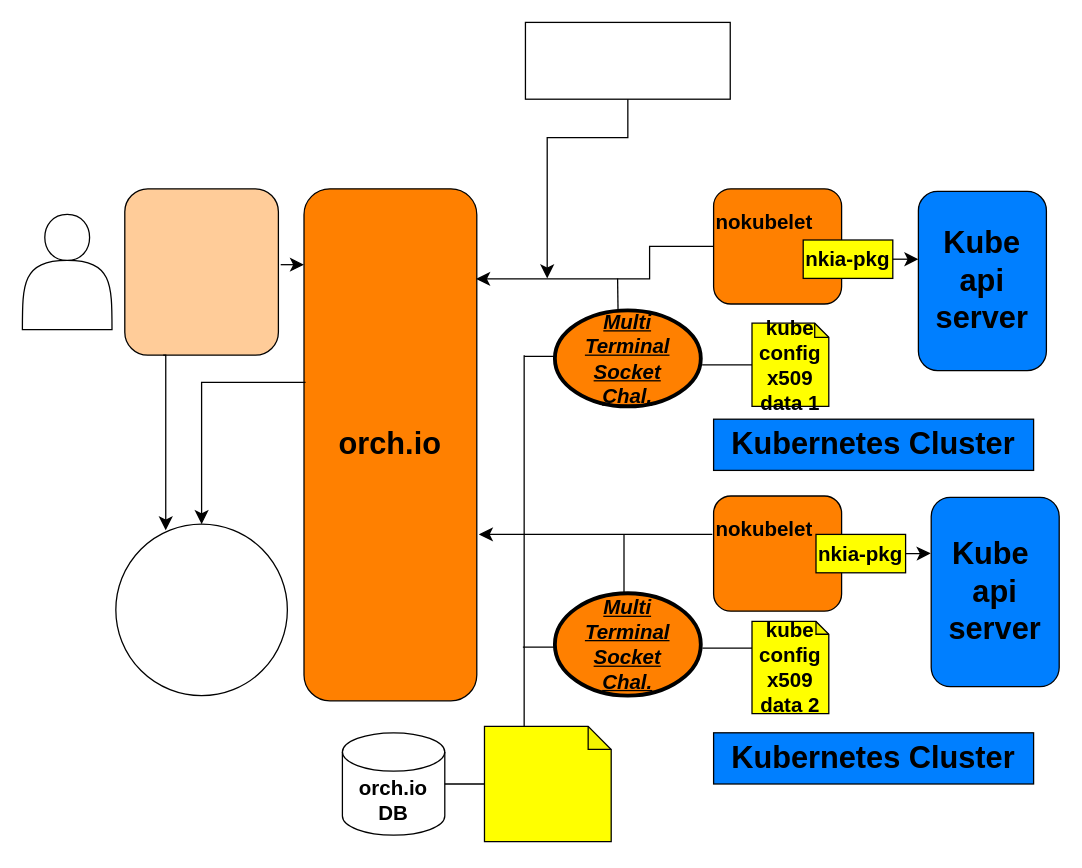
Some shapes in this 1082 by 868 pixel diagram are drawn without their labels. Here are the shapes that lost their labels. From the top down, the centre of each, then its label:
At [627,60]: "KXCA".
At [66,271]: "User".
At [201,271]: "nokubectl".
At [201,609]: "OAuth Authority".
At [547,783]: "merged kube config x509 data".
